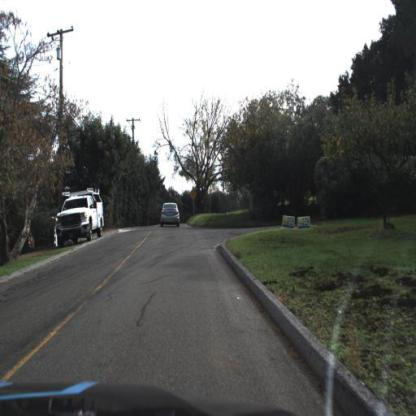car: (53, 185, 106, 249), (161, 197, 183, 227)
truck: (49, 181, 111, 259)
